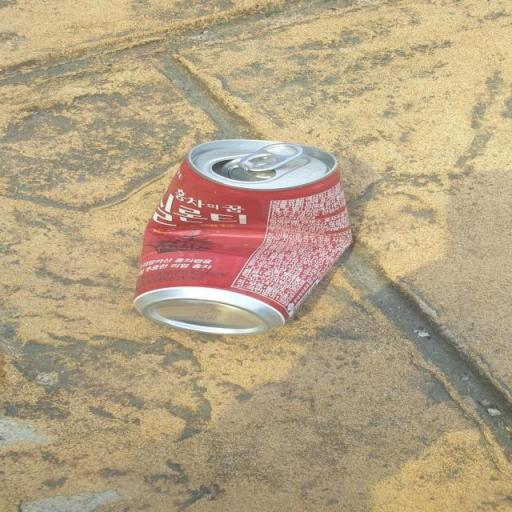metal: (94, 121, 396, 353)
